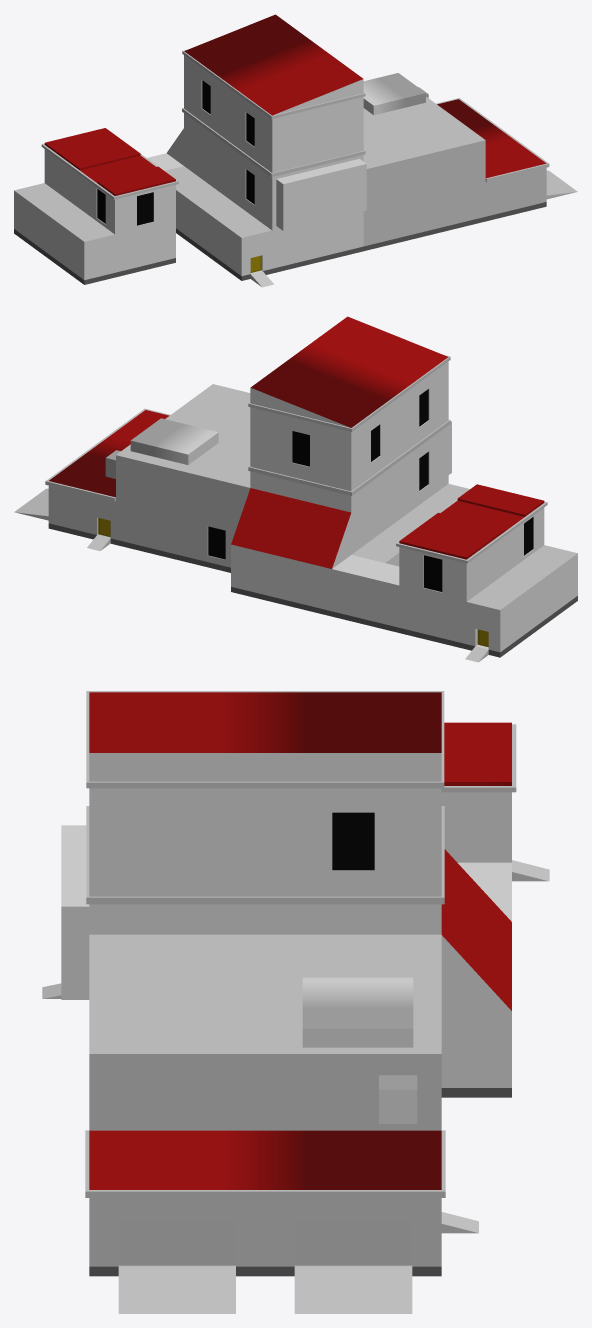
The model's file is Area12_Factory1.fbx.
3 views of the same model, one above another, from view 1: azimuth 30°, elevation 25°; view 2: azimuth 150°, elevation 25°; view 3: azimuth 270°, elevation 25° (orthographic). The views are drawn at different scales.
Parts seen in each view (by area): view 1: Factory1Body; view 2: Factory1Body; view 3: Factory1Body.
Boxes of the visible parts, x1,y1,x2,y2 form: Factory1Body: [14, 14, 577, 287]; Factory1Body: [14, 316, 577, 662]; Factory1Body: [42, 691, 549, 1313].
Size of the model in its own units: 76.33 by 36 by 27.
